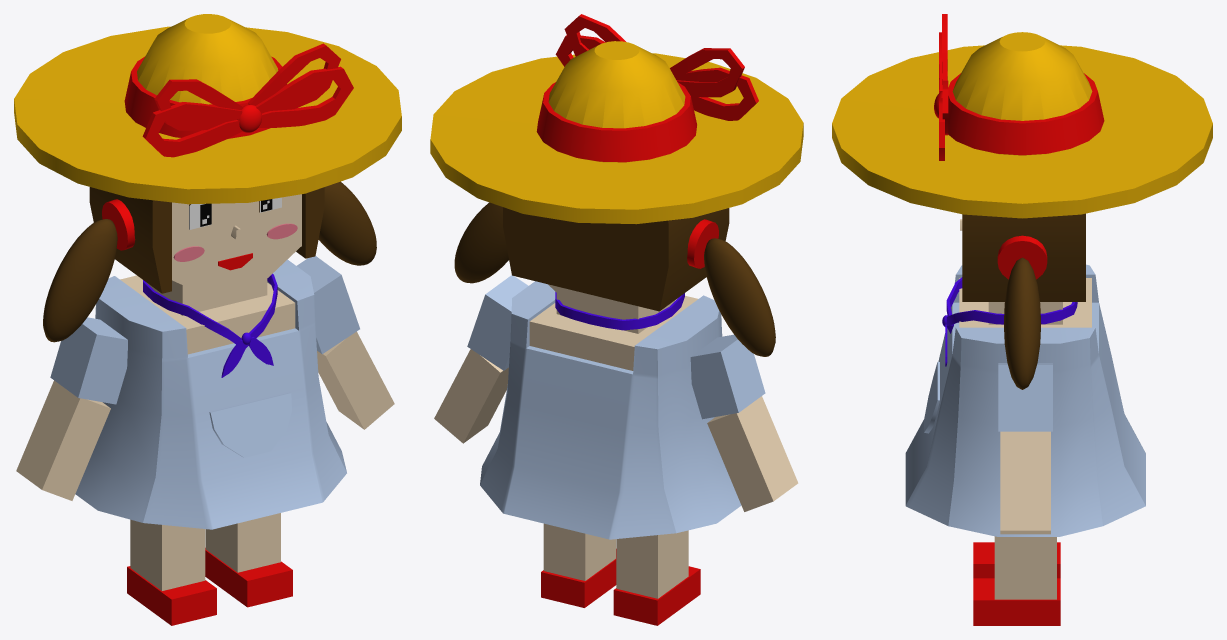
File: yumi_RE.fbx
3 views of the same model, side by side, from view 1: azimuth 30°, elevation 25°; view 2: azimuth 150°, elevation 25°; view 3: azimuth 270°, elevation 25° (orthographic). The views are drawn at different scales.
Visible parts, largest first — view 1: polySurface49, polySurface27, polySurface41, polySurface31, polySurface50, polySurface38, polySurface30, polySurface32, polySurface29, polySurface26, polySurface36, polySurface34 (+10 smaller); view 2: polySurface49, polySurface27, polySurface50, polySurface31, polySurface38, polySurface30, polySurface32, polySurface29, polySurface36, polySurface34, polySurface28, polySurface33 (+9 smaller); view 3: polySurface49, polySurface27, polySurface50, polySurface29, polySurface34, polySurface36, polySurface28, polySurface35, polySurface47, polySurface25, polySurface33, polySurface26.
Boxes of the visible parts, x1,y1,x2,y2 form: polySurface49: (14,14,401,204); polySurface27: (75,259,346,529); polySurface41: (172,194,301,297); polySurface31: (16,380,110,500); polySurface50: (89,187,324,293); polySurface38: (43,219,117,342); polySurface30: (50,317,127,404); polySurface32: (130,519,205,590); polySurface29: (317,331,394,429); polySurface26: (209,392,291,457); polySurface36: (318,181,376,265); polySurface34: (205,513,280,572); polySurface49: (430,41,803,224); polySurface27: (480,281,741,539); polySurface50: (503,207,729,311); polySurface31: (707,396,798,511); polySurface38: (704,238,775,356); polySurface30: (690,334,765,419); polySurface32: (616,530,688,598); polySurface29: (434,349,508,443); polySurface36: (454,202,508,283); polySurface34: (543,523,615,580); polySurface28: (467,275,528,370); polySurface33: (613,566,700,625); polySurface49: (832,32,1212,218); polySurface27: (905,264,1145,536); polySurface50: (962,213,1085,301); polySurface29: (1000,431,1050,534); polySurface34: (994,536,1056,599); polySurface36: (1003,257,1041,389); polySurface28: (998,363,1052,431); polySurface35: (973,578,1060,625); polySurface47: (997,235,1047,279); polySurface25: (946,277,1077,333); polySurface33: (973,542,1060,578); polySurface26: (924,361,939,433).
Size of the model in its own units: 34.66 by 53.38 by 33.16.
